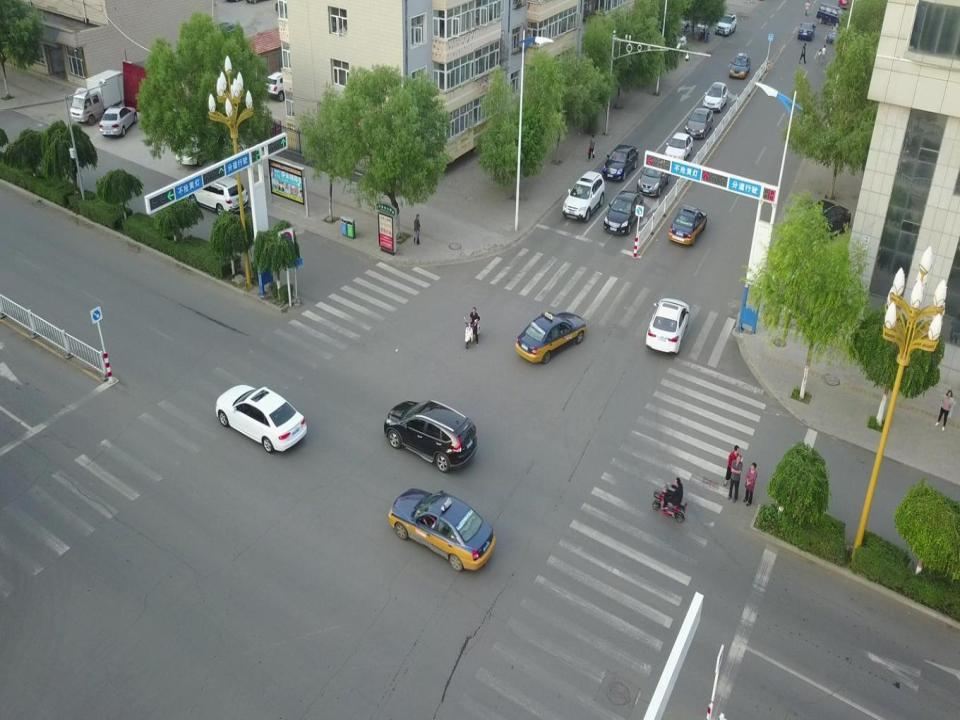car: (388, 486, 496, 571), (384, 399, 477, 473), (216, 382, 307, 452), (515, 312, 586, 364), (187, 175, 249, 218), (645, 297, 690, 355), (799, 198, 852, 243), (562, 170, 605, 222), (603, 190, 643, 236), (175, 132, 229, 166), (668, 204, 708, 246), (603, 143, 639, 182), (98, 106, 138, 137), (637, 164, 671, 196), (684, 108, 714, 138), (665, 131, 694, 161), (702, 81, 728, 113), (264, 73, 288, 101), (714, 11, 737, 37), (729, 53, 751, 79), (797, 22, 817, 40)
truck: (76, 70, 124, 126)
van: (816, 2, 844, 25)
